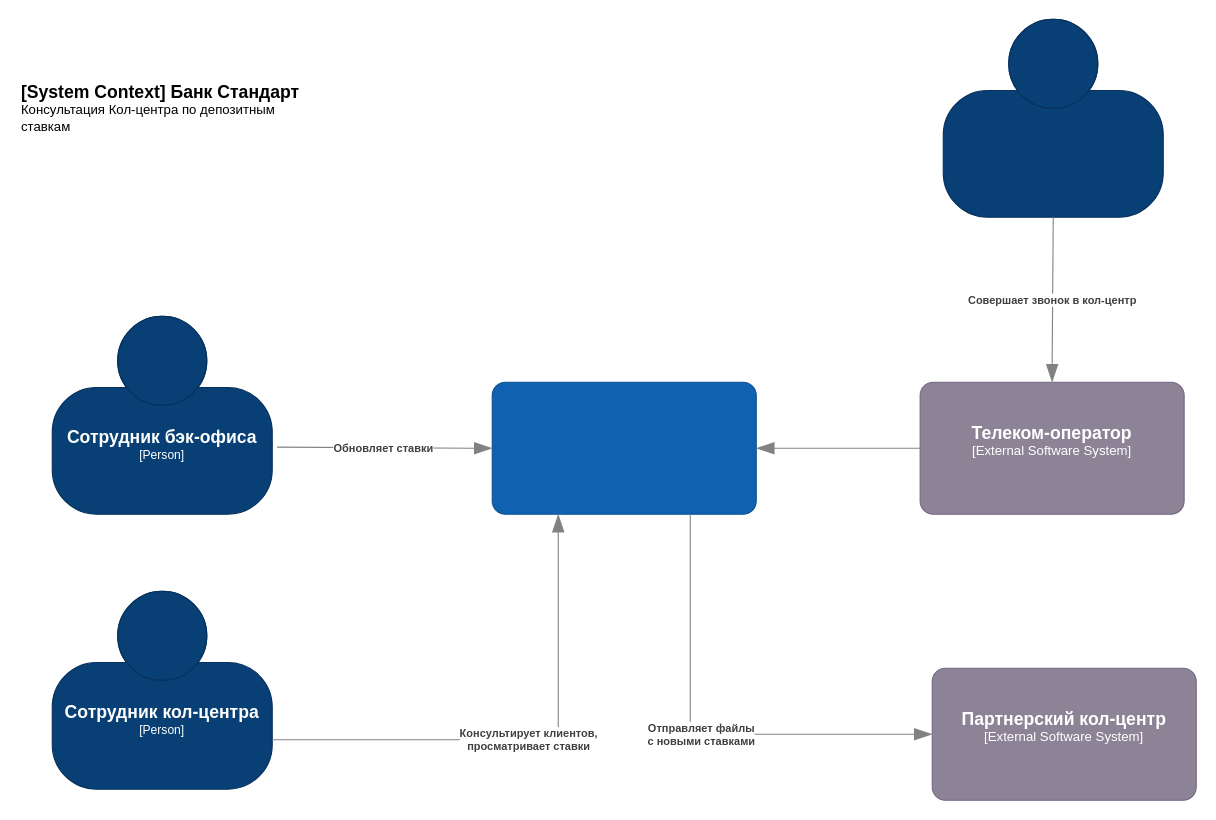
Image size: 1216x820. Some labels were removed from this diagram. Here are the shapes that lost their labels. From the top down, the centre of each, then its label:
(x=1052, y=117): Клиент [Person]
(x=623, y=447): Внутренний контур банка [Software System] Системы Банка "Стандарт"
